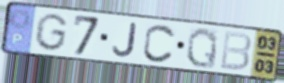7: (72, 13, 101, 58)
B: (218, 29, 254, 73)
C: (141, 22, 178, 64)
G: (32, 12, 69, 53)
J: (111, 21, 138, 59)
Q: (184, 26, 219, 71)
